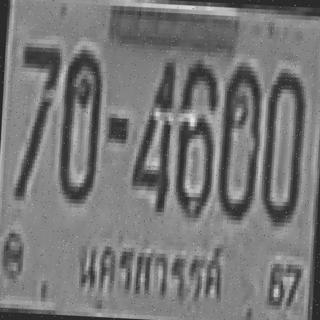N00: (216, 61, 262, 217), (260, 68, 305, 224), (57, 45, 102, 200)
N04: (129, 55, 174, 210)
N06: (173, 59, 218, 215)
N07: (13, 42, 61, 198)
P31: (71, 230, 231, 311)
